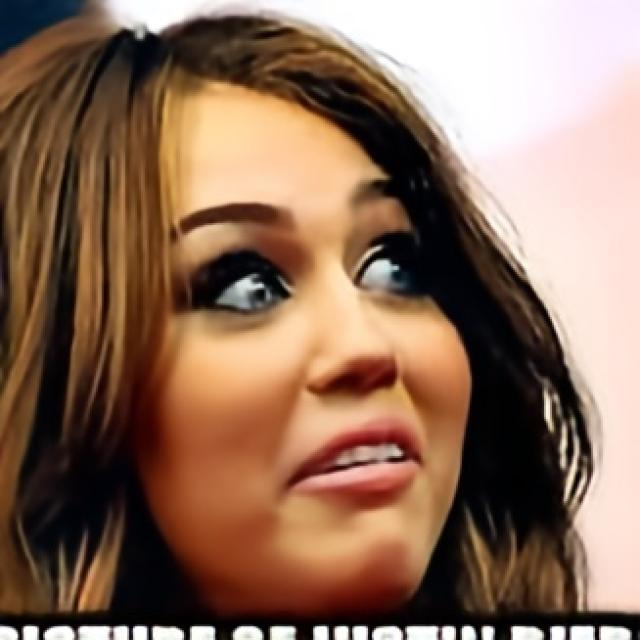disgust: (134, 70, 476, 612)
